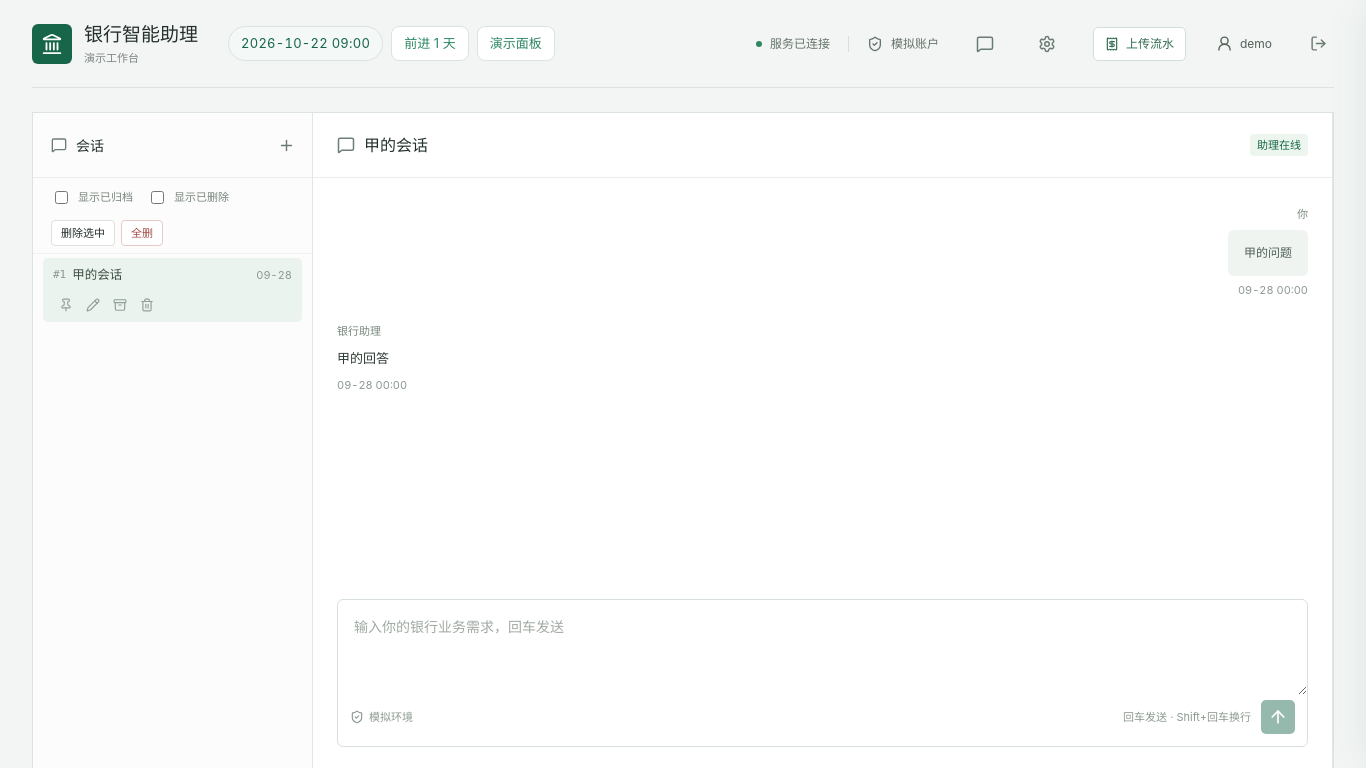
Test: the bill shell › renders the analysis report when a tool result carries a report display
Type "帮我分析八月的流水" into the text box with placeholder "输入你的银行业务需求，回车发送" at (822, 648), box [338, 600, 1307, 695]
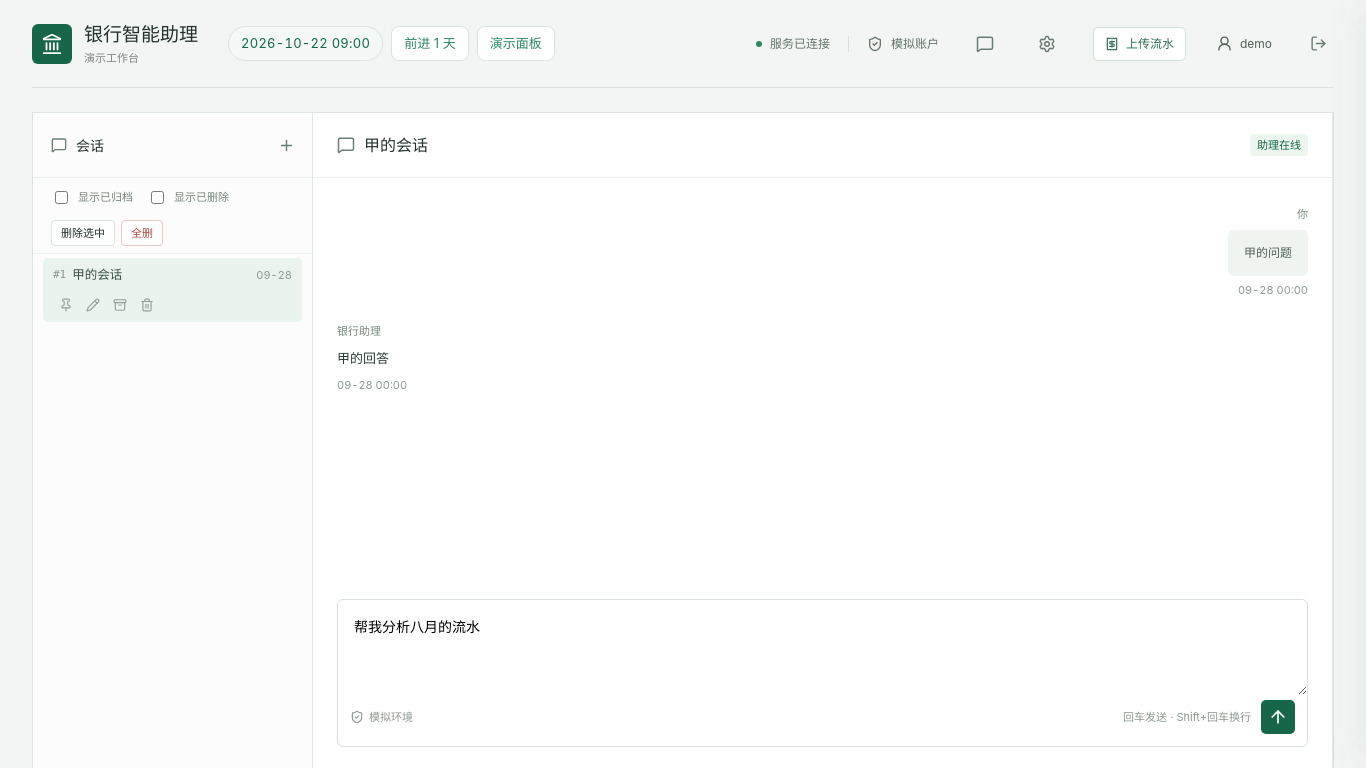
Submit the form with class "composer", box [337, 599, 1308, 747]
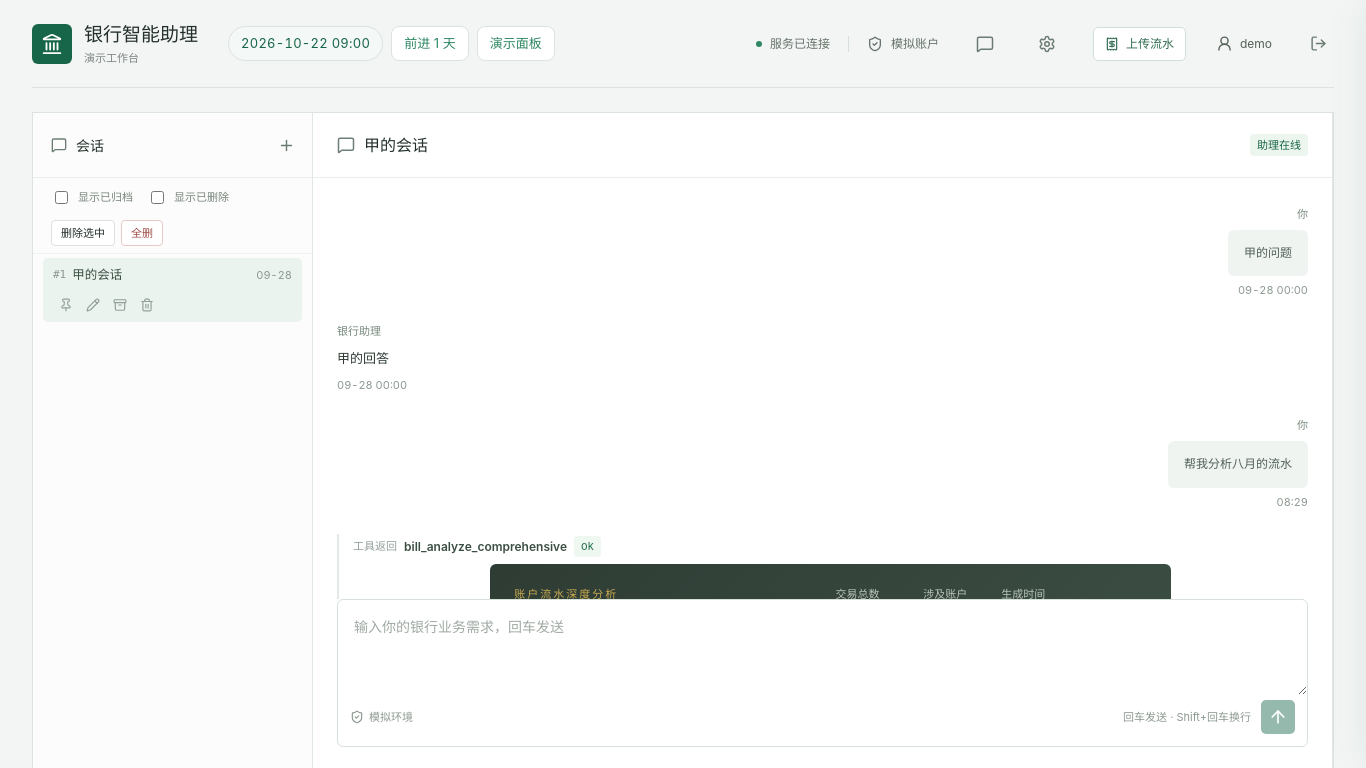
Check: the element with class "report" shows "账户流水深度分析", box [514, 587, 618, 599]
